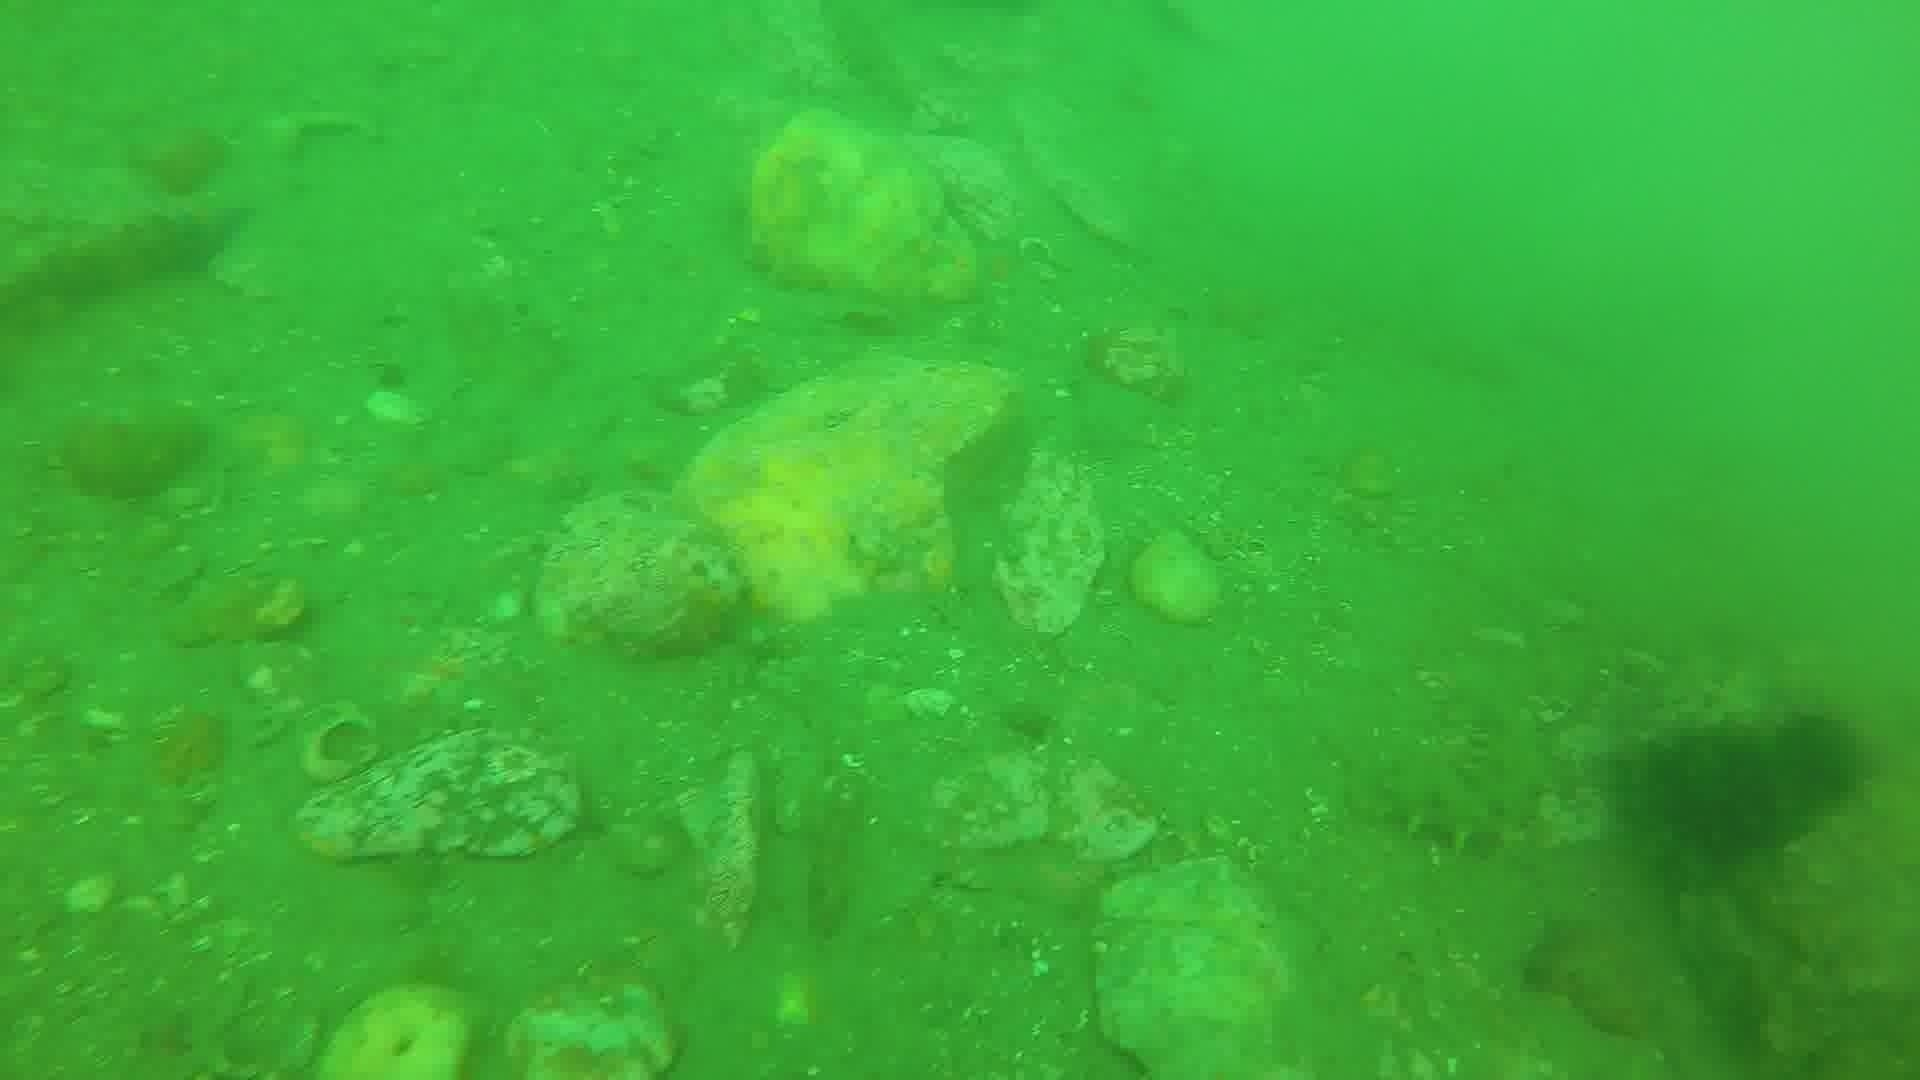echinus: (1629, 720, 1792, 869), (1760, 705, 1873, 816)
holothurian: (3, 195, 256, 328), (1356, 702, 1553, 858)
